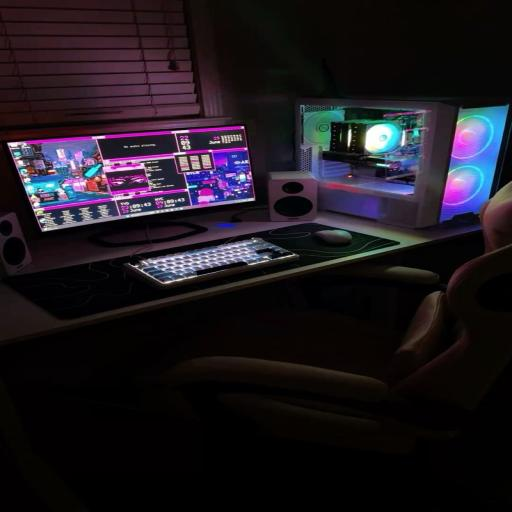computer case: (295, 97, 511, 229)
monitor: (1, 124, 255, 233)
